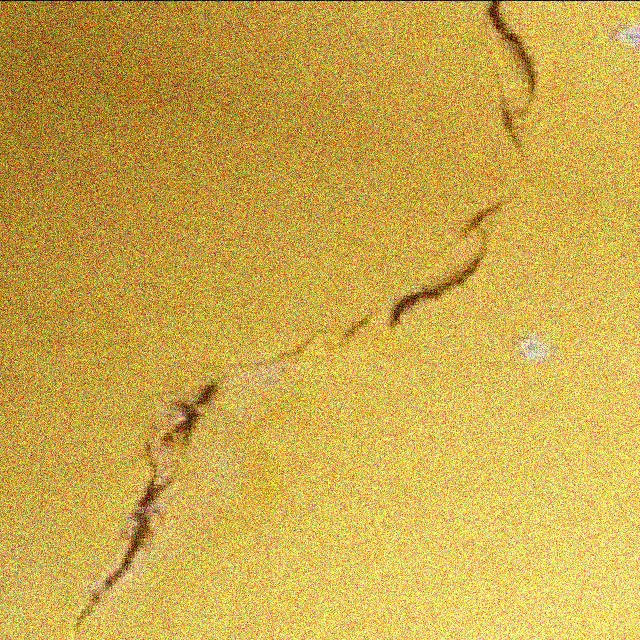SurfaceCrack: (322, 0, 572, 348), (64, 362, 250, 640)
